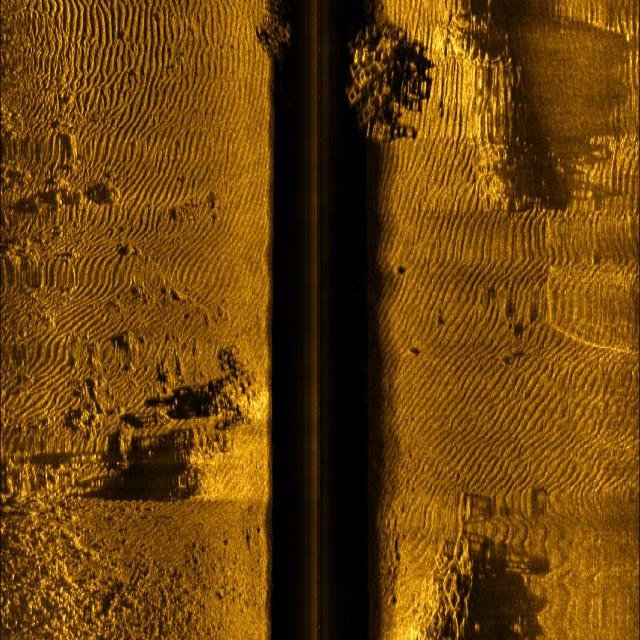artificial reef: (390, 491, 480, 640), (344, 17, 416, 158), (247, 1, 296, 70)
